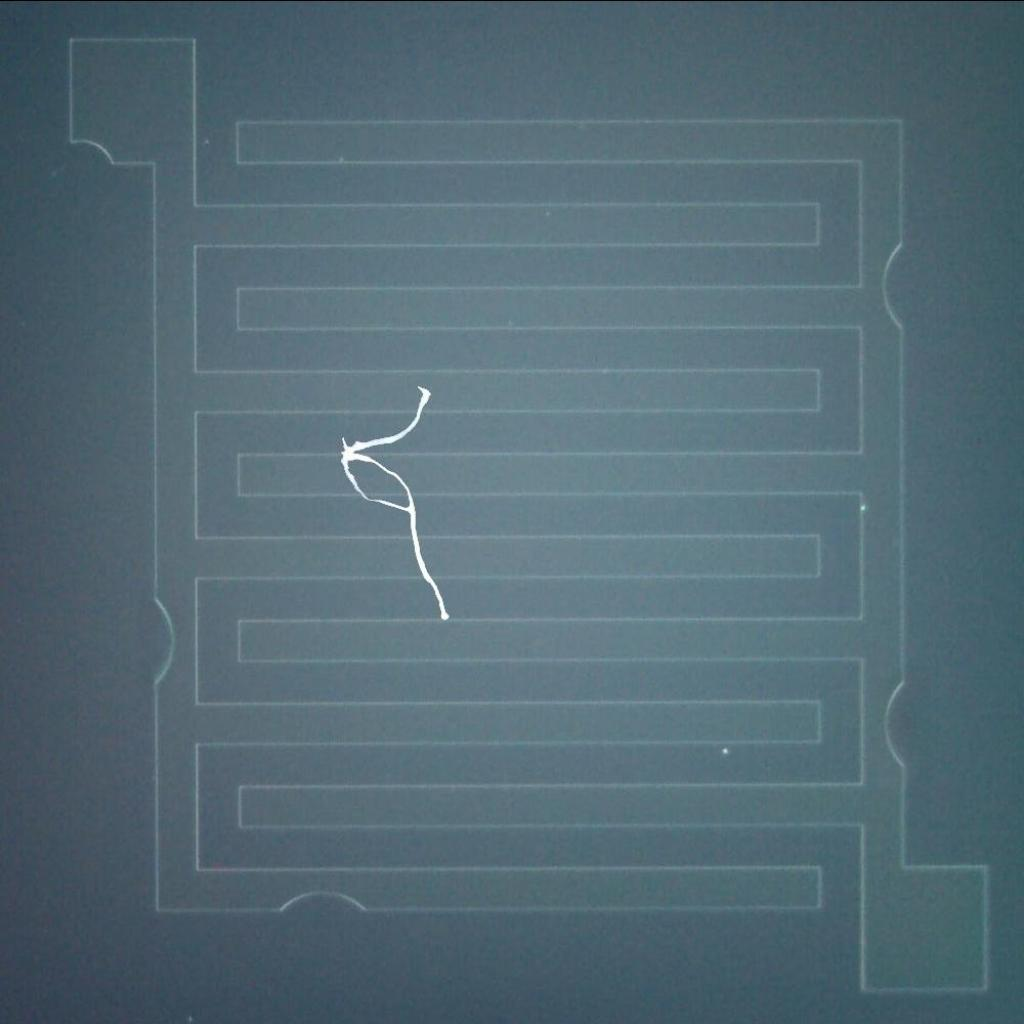curve circuit: (134, 580, 180, 700), (875, 660, 916, 786), (878, 226, 918, 344), (266, 884, 376, 920), (60, 124, 123, 172)
dot: (714, 743, 737, 764)
line: (334, 374, 456, 628)
